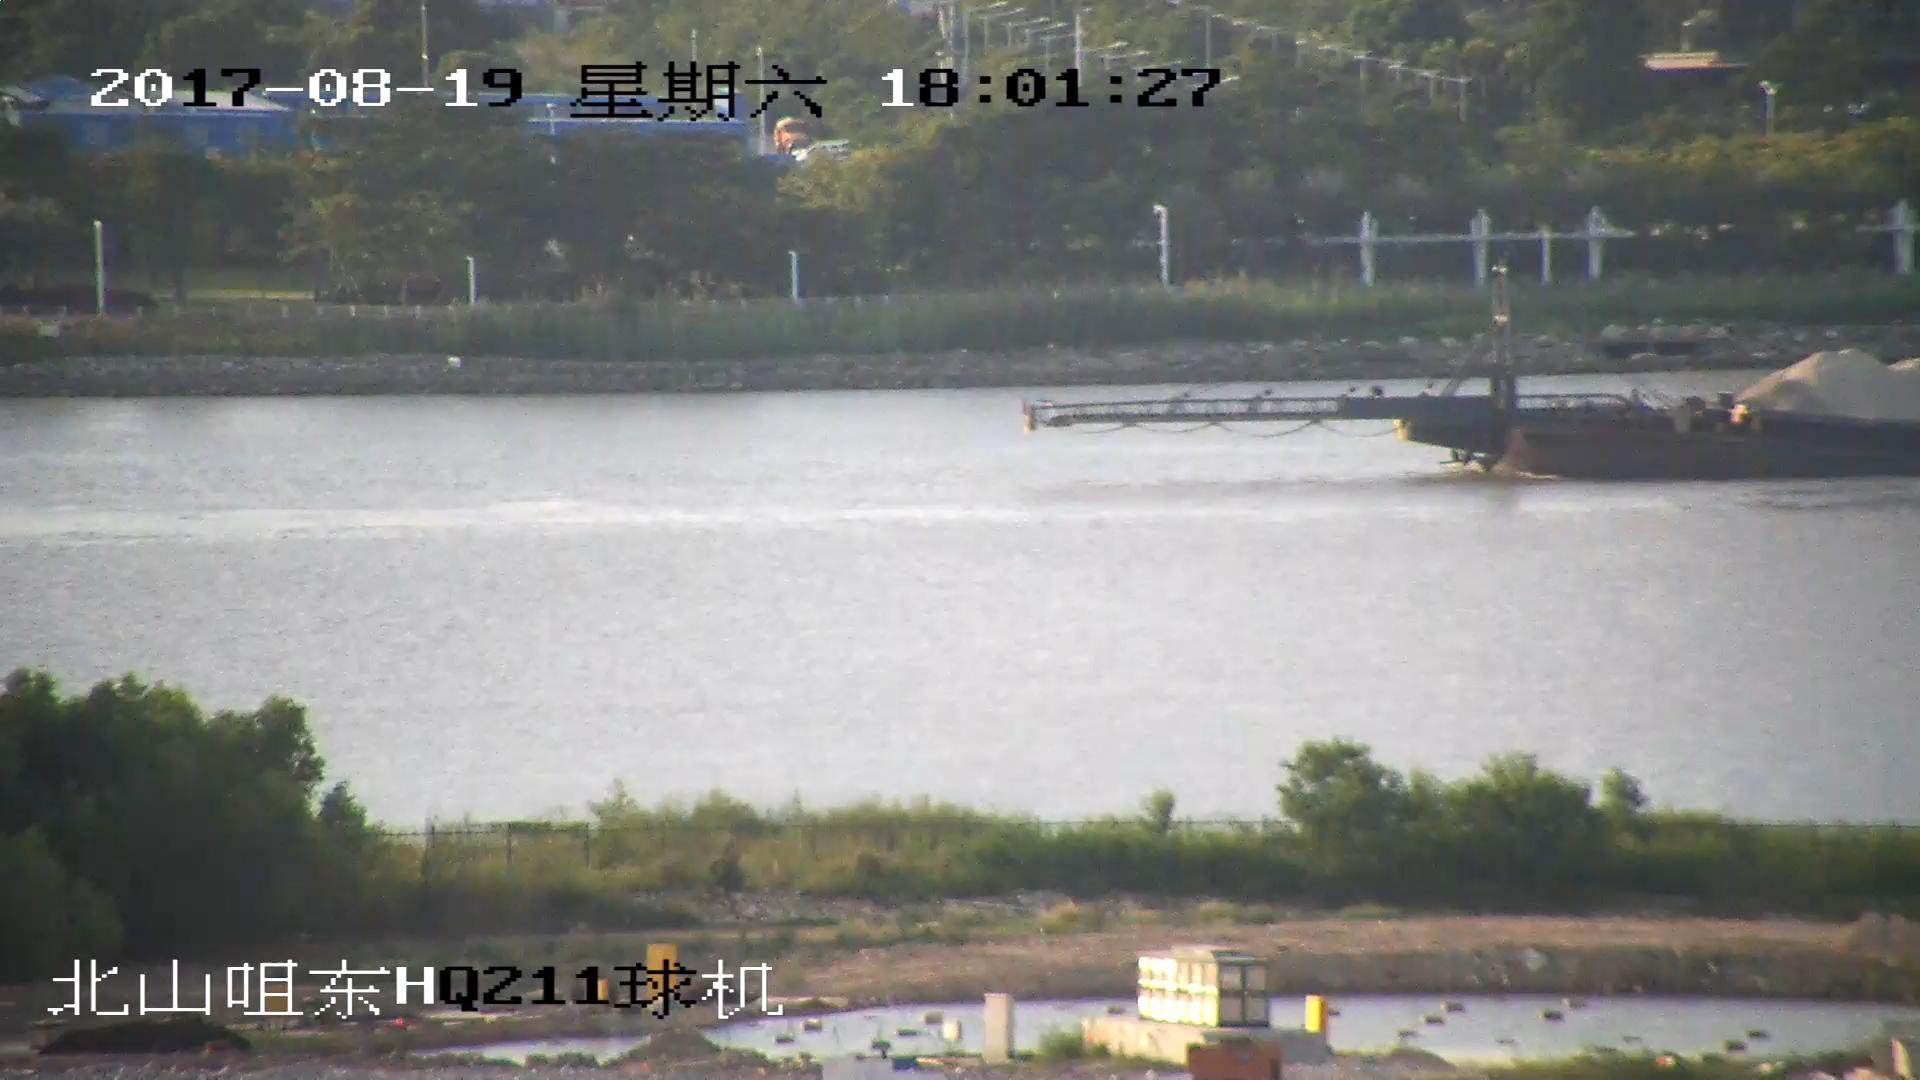Ship: (1027, 269, 1920, 491)
